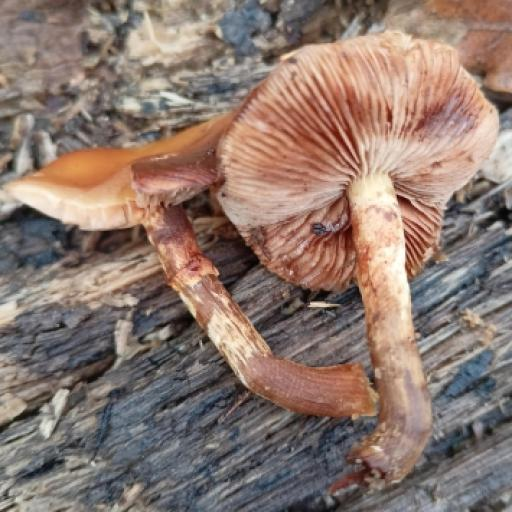Funeral Bell: (152, 0, 512, 501), (6, 78, 386, 512)
